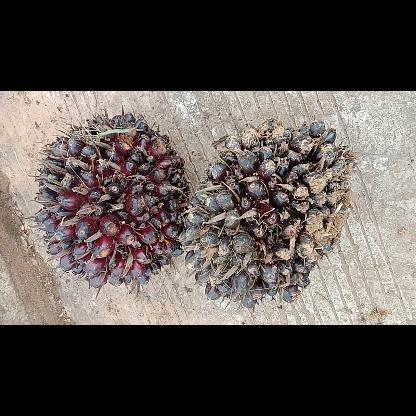TBS mentah: (177, 115, 360, 309), (34, 110, 190, 292)
